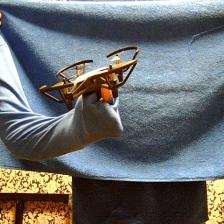drone: (39, 45, 140, 102)
